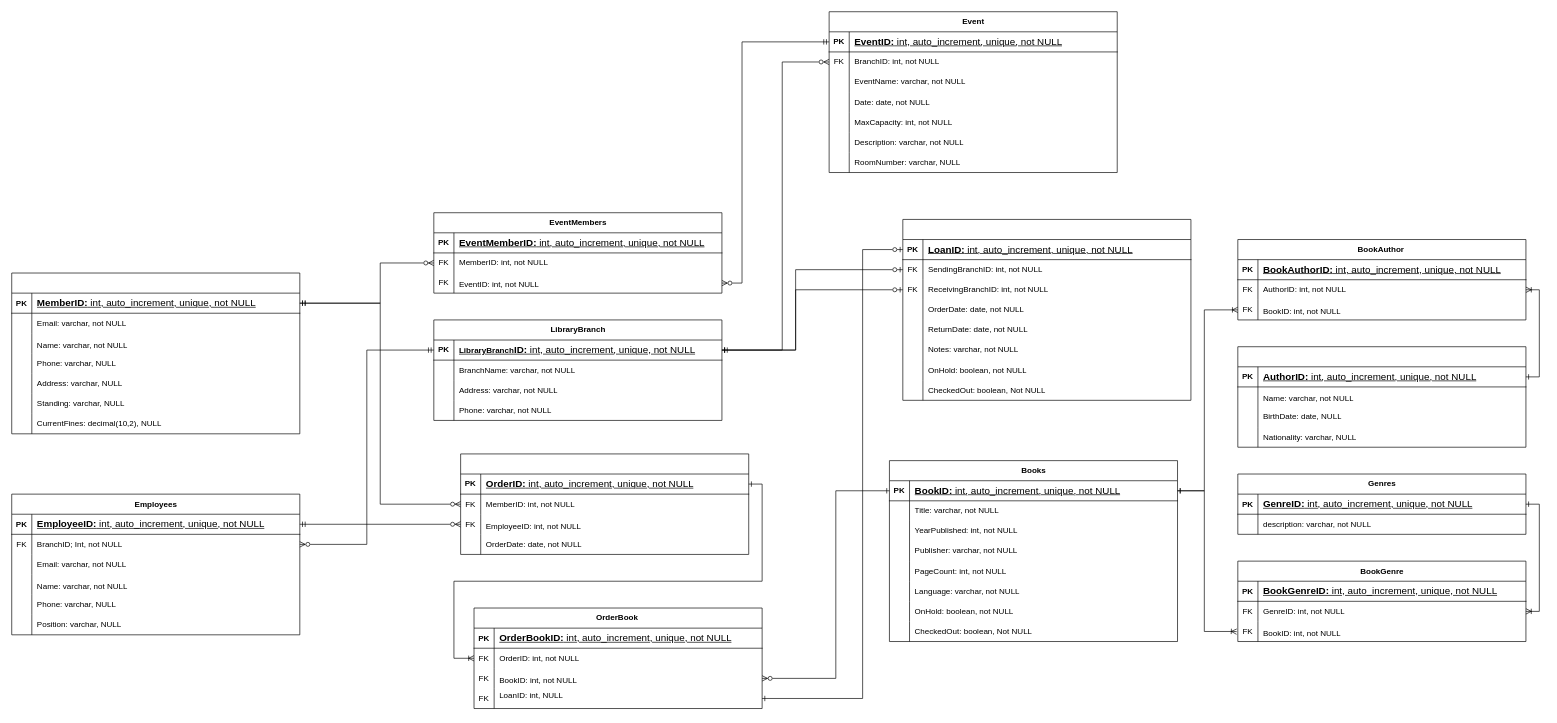
Image size: 1557x723. Some labels were removed from this diagram. Here are the shapes that lost their labels. From the top down, the box of each, then its label:
(902, 219, 1191, 400): InterlibraryLoan
(11, 272, 300, 434): Members
(1237, 346, 1526, 447): Authors
(460, 453, 749, 554): Orders
